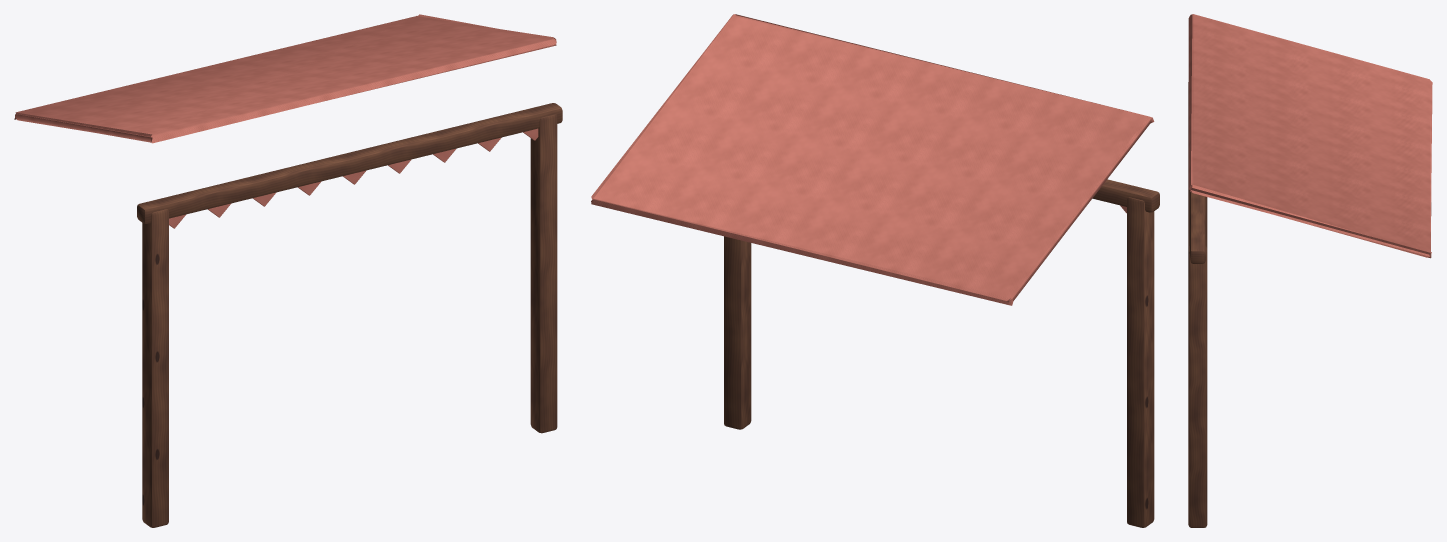
Rendered from tavern_awning.gltf.
3 views of the same model, side by side, from view 1: azimuth 30°, elevation 25°; view 2: azimuth 150°, elevation 25°; view 3: azimuth 270°, elevation 25° (orthographic). The views are drawn at different scales.
Parts seen in each view (by area): view 1: tavern_awning_mesh; view 2: tavern_awning_mesh; view 3: tavern_awning_mesh.
Part boxes in pixels (x1,y1,x2,y2): tavern_awning_mesh: (14, 14, 562, 527); tavern_awning_mesh: (591, 14, 1159, 527); tavern_awning_mesh: (1188, 14, 1432, 527).
Size of what is drawn, in the model's own units: 2.7 by 2.41 by 1.55.
Materials: 2 (2 with a texture image).
